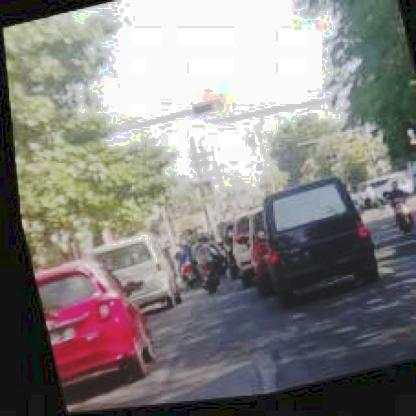Traffic Light -Red-: (190, 102, 218, 118)
